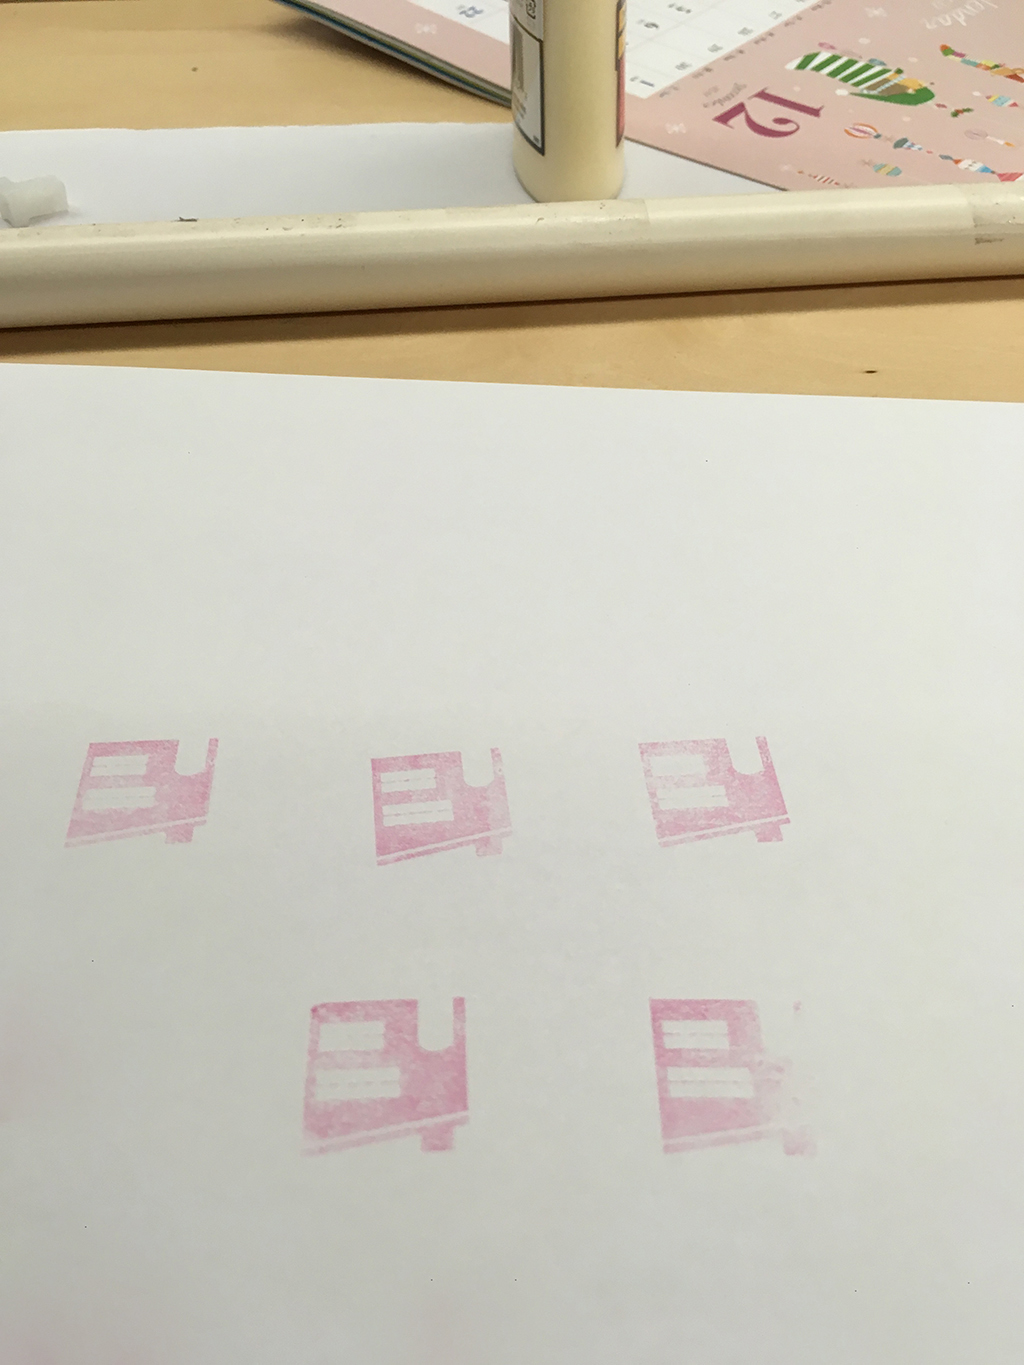house: (640, 981, 856, 1171), (281, 989, 487, 1177), (343, 742, 535, 888), (49, 719, 229, 870), (632, 723, 810, 873)
